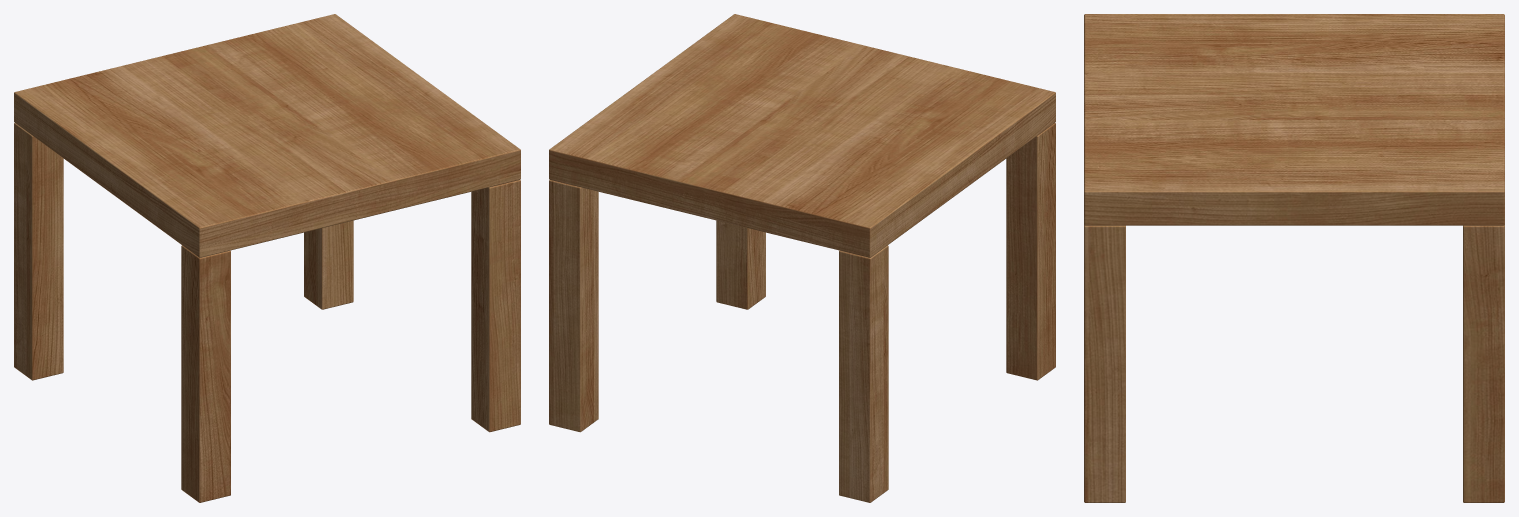
The picture shows the model from 3 angles, left to right: view 1: azimuth 30°, elevation 25°; view 2: azimuth 150°, elevation 25°; view 3: azimuth 270°, elevation 25°; orthographic projection. The views are drawn at different scales.
Parts seen in each view (by area): view 1: IKEA Lack Side Table 55x55x45; view 2: IKEA Lack Side Table 55x55x45; view 3: IKEA Lack Side Table 55x55x45.
Part boxes in pixels (x1=…): IKEA Lack Side Table 55x55x45: x1=14, y1=14, x2=520, y2=502; IKEA Lack Side Table 55x55x45: x1=549, y1=14, x2=1055, y2=502; IKEA Lack Side Table 55x55x45: x1=1084, y1=14, x2=1504, y2=502.
Bounding box in the file's own units: 0.55 × 0.45 × 0.55.
Materials: 1 (1 with a texture image).
